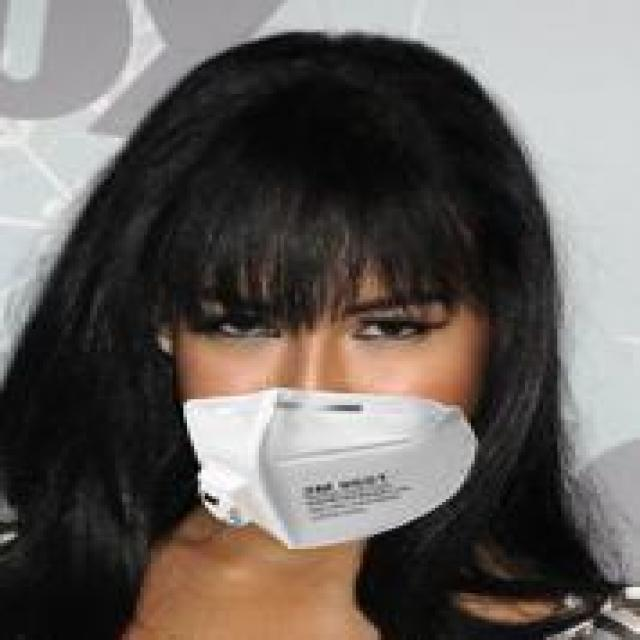mask: (86, 59, 518, 572)
